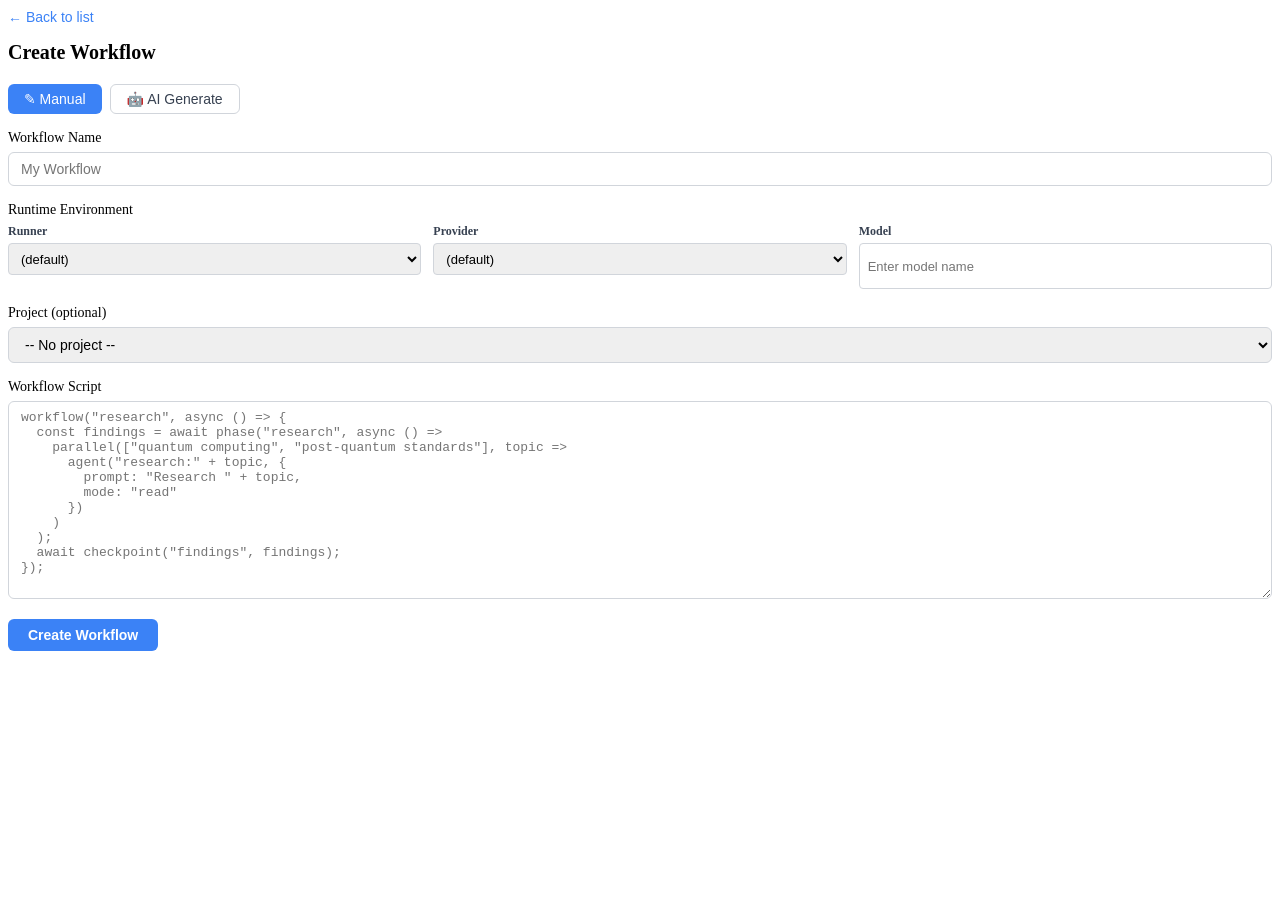
Test: CreateWorkflowForm › shows error when submitting with empty script
Type "Test Workflow" into the field labelled "Workflow Name" at (640,169), box [8,152,1272,186]
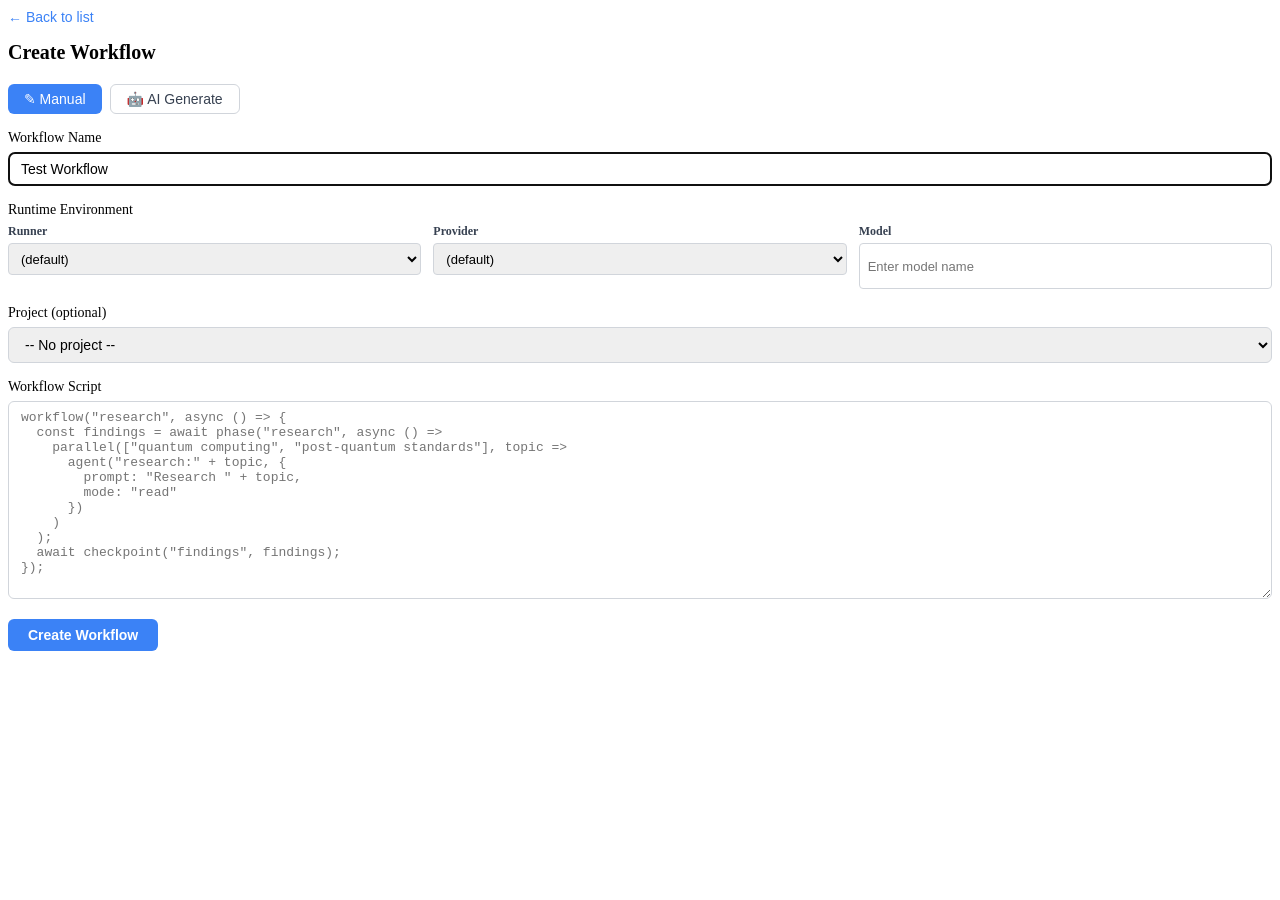
Click the button "Create Workflow" at (83,635), box [8,619,158,651]
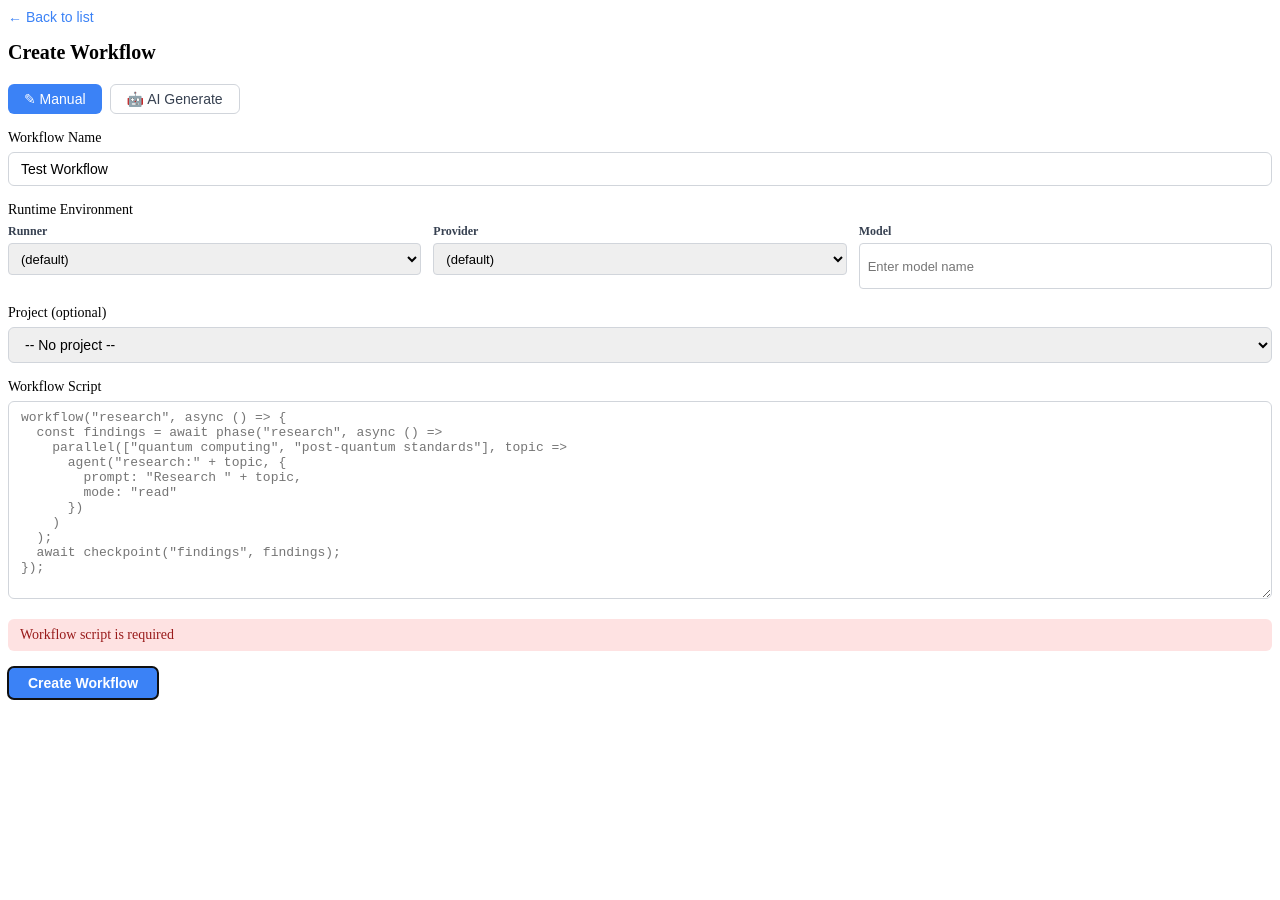
Expected: the text "Workflow script is required" is shown, [8,619,1272,651]
